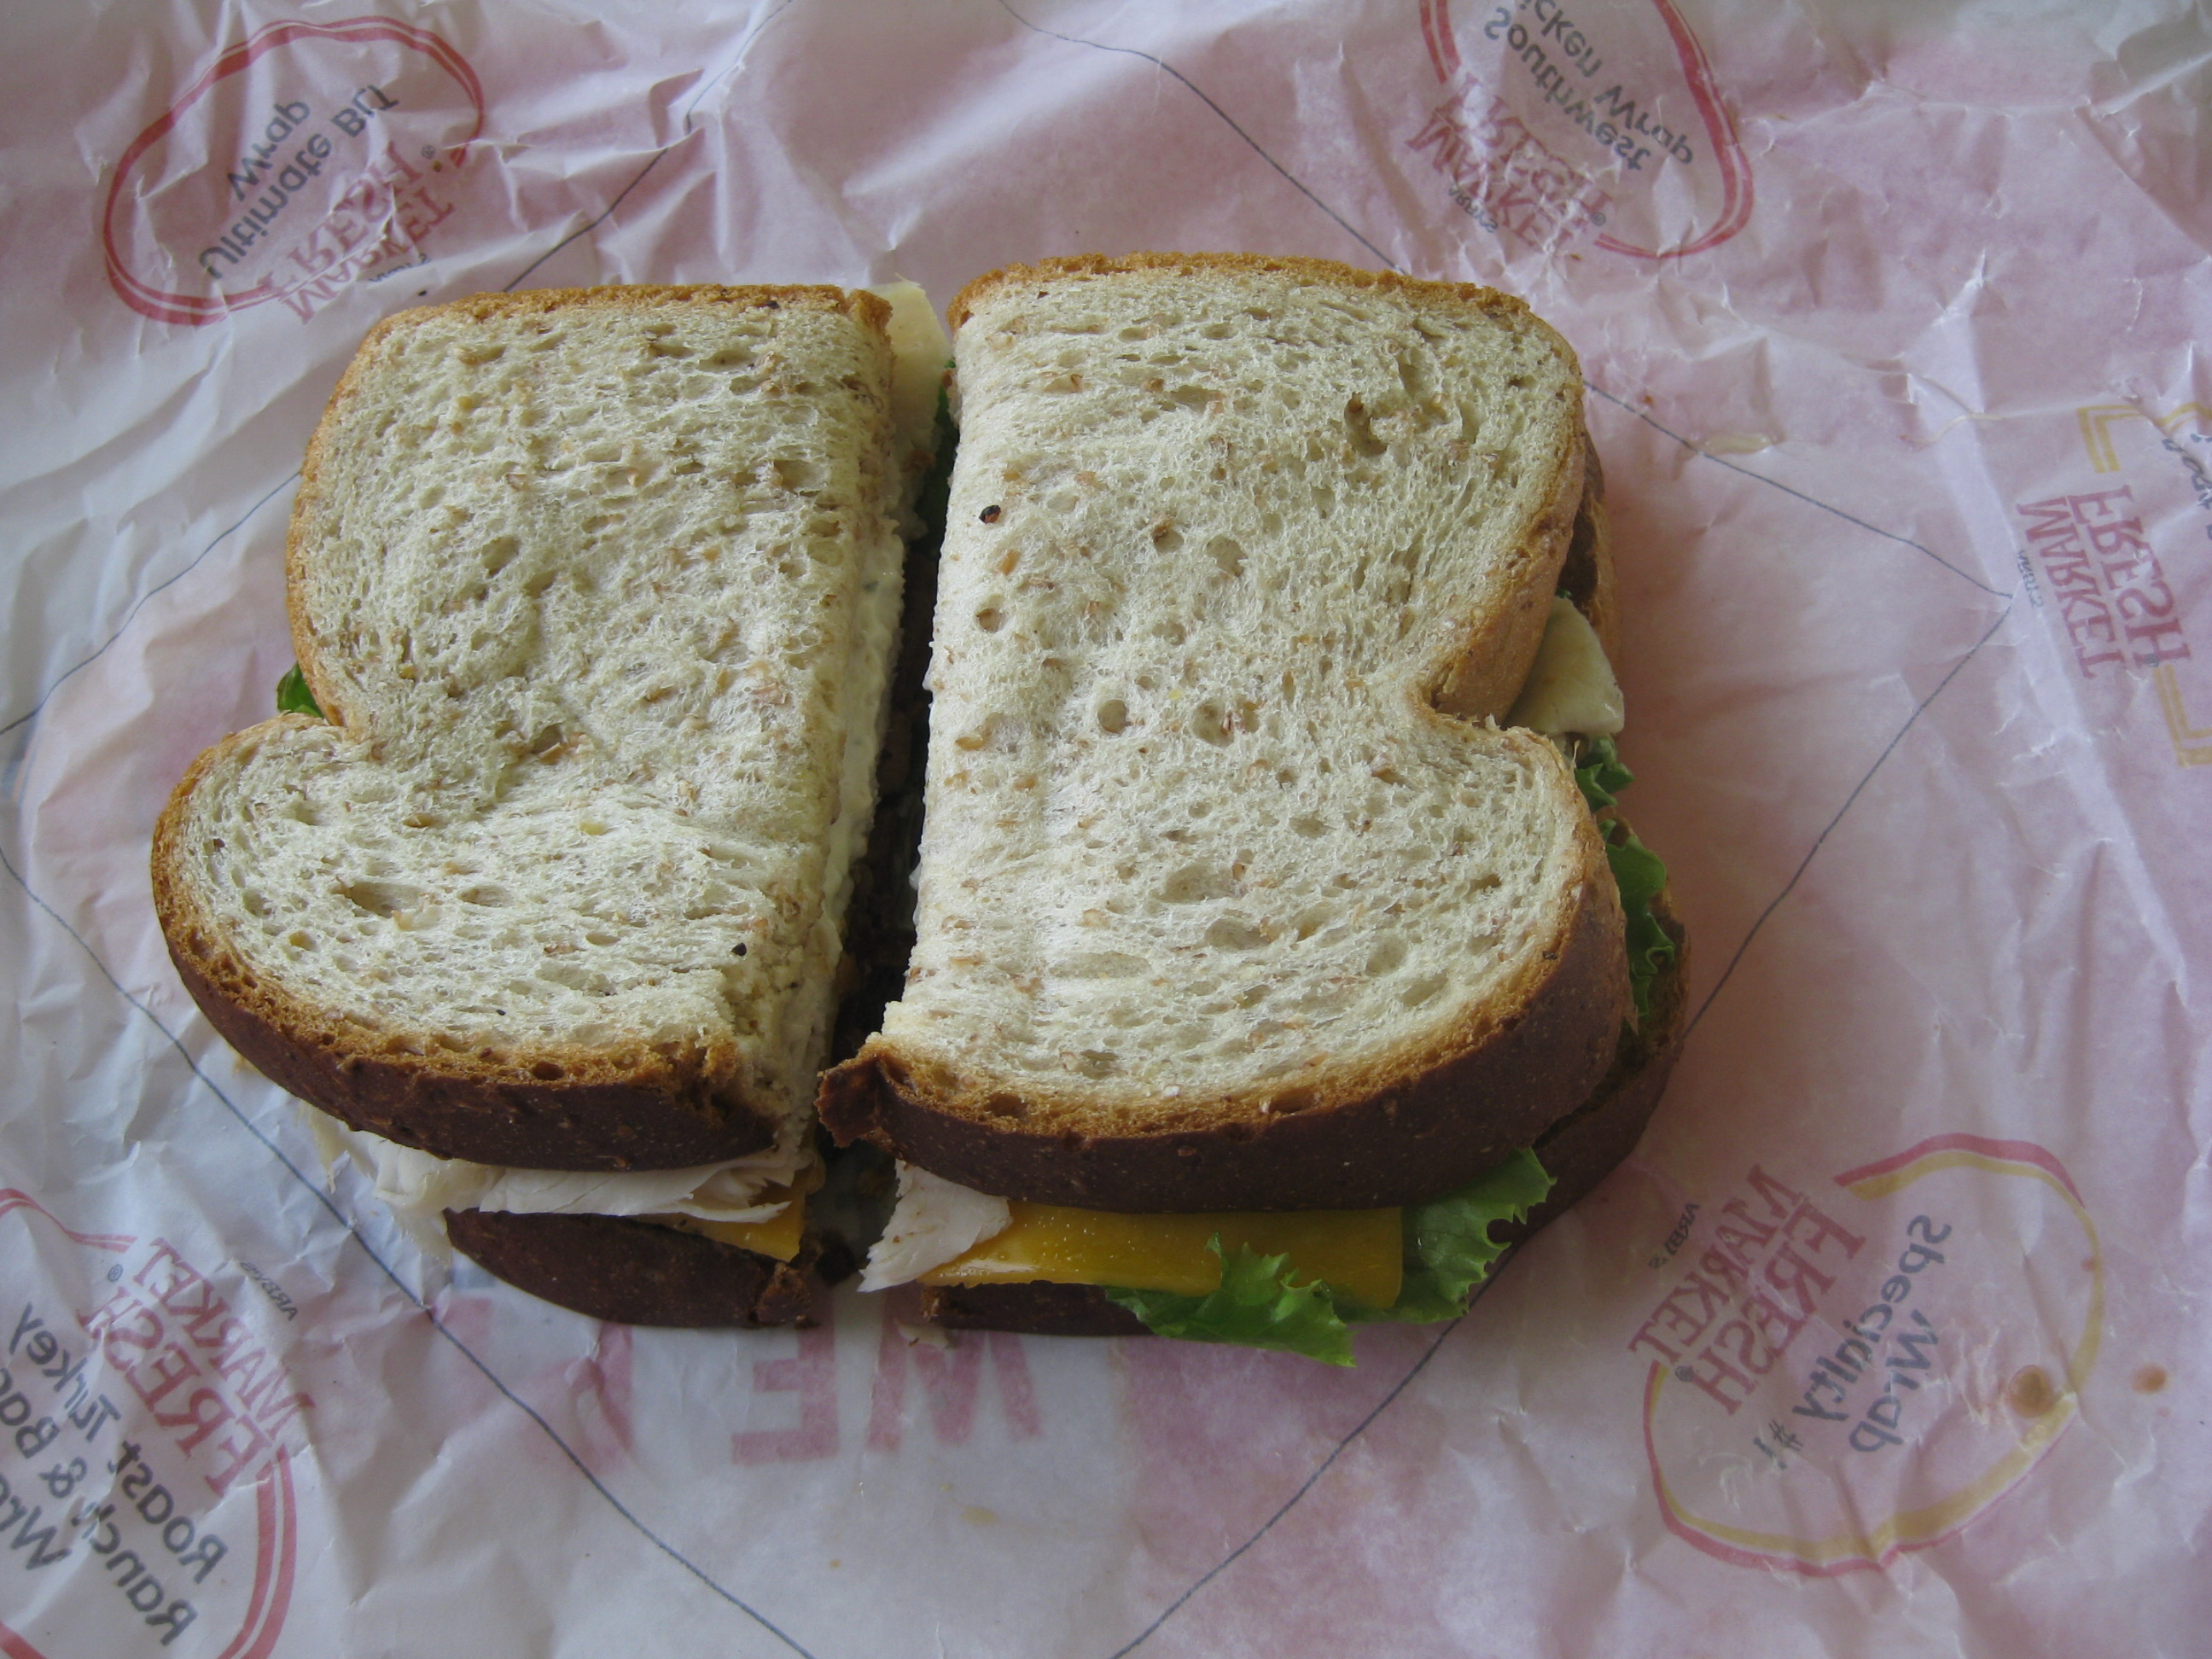sandwich: (148, 160, 1781, 1377)
